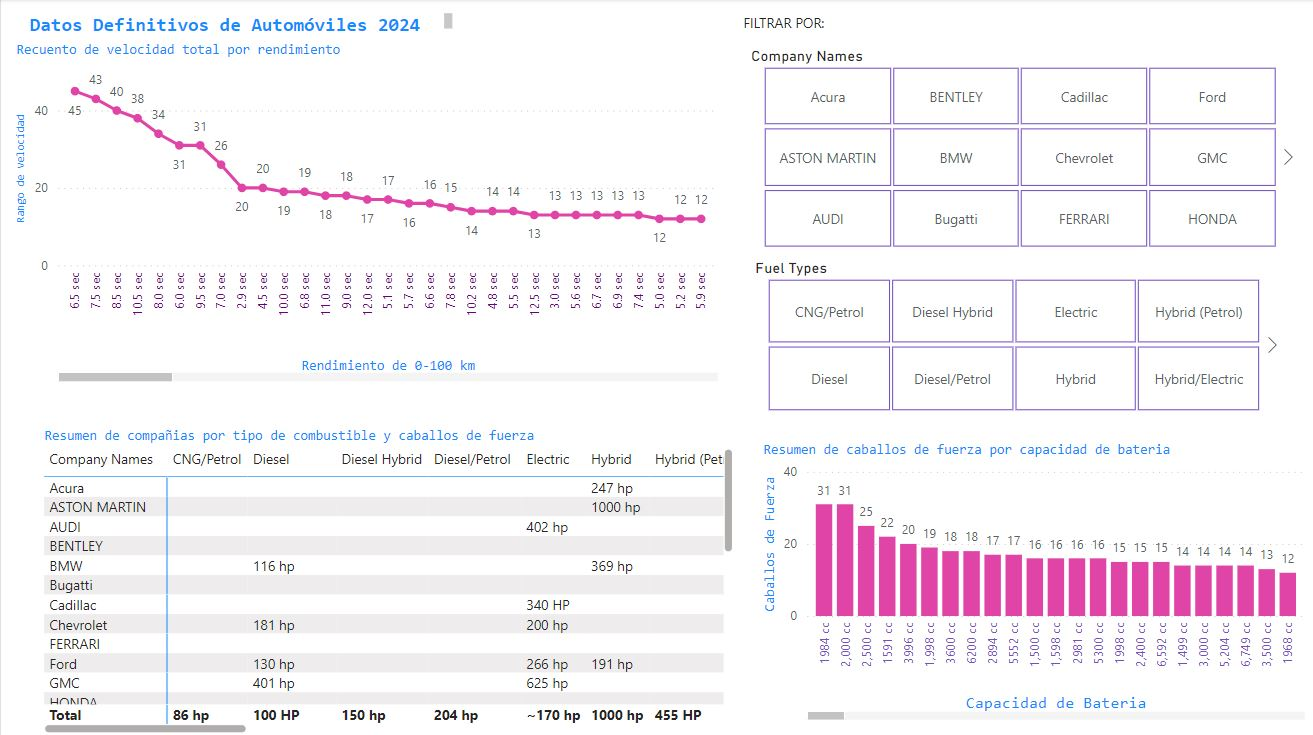

The page's visual inventory and layout, read from the dashboard file:
{"tool":"powerbi","page":{"name":"Ejercicio 3","canvas":[1280,720],"ordinal":2},"visuals":[{"type":"lineChart","title":"Recuento de velocidad total por rendimiento","fields":{"Category":["Cars Dataset 2024.Performance(0 - 100 )KM/H"],"Y":["CountNonNull(Cars Dataset 2024.Total Speed)"]},"box":[9.7,41.8,692.5,334.6],"z":0},{"type":"slicer","fields":{"Values":["Cars Dataset 2024.Company Names"]},"box":[716.8,41.8,546.6,206.2],"z":1000},{"type":"pivotTable","title":"Resumen de compañias por tipo de combustible y caballos de fuerza","fields":{"Rows":["Cars Dataset 2024.Company Names"],"Columns":["Cars Dataset 2024.Fuel Types"],"Values":["Min(Cars Dataset 2024.HorsePower)"]},"box":[37,417.3,679.9,302.5],"z":2000},{"type":"columnChart","title":"Resumen de caballos de fuerza por capacidad de bateria","fields":{"Category":["Cars Dataset 2024.CC/Battery Capacity"],"Y":["CountNonNull(Cars Dataset 2024.HorsePower)"]},"box":[736.3,430.9,536.9,275.3],"z":3000},{"type":"slicer","fields":{"Values":["Cars Dataset 2024.Fuel Types"]},"box":[720.7,248,527.2,158.5],"z":4000},{"type":"textbox","box":[716.8,8.8,232.5,33.1],"z":4001},{"type":"textbox","box":[0,8.8,443.5,28.2],"z":4002}]}

Visuals, with their boxes in screenshot pixels (x1, y1, x2, y2), scaled from the page's 1280x720 canvas onto the 1313x735 screenshot:
"Recuento de velocidad total por rendimiento" lineChart: (10,43,720,384)
slicer - Cars Dataset 2024.Company Names: (735,43,1296,253)
"Resumen de compañias por tipo de combustible y caballos de fuerza" pivotTable: (38,426,735,734)
"Resumen de caballos de fuerza por capacidad de bateria" columnChart: (755,440,1306,721)
slicer - Cars Dataset 2024.Fuel Types: (739,253,1280,415)
textbox: (735,9,974,43)
textbox: (0,9,455,38)
